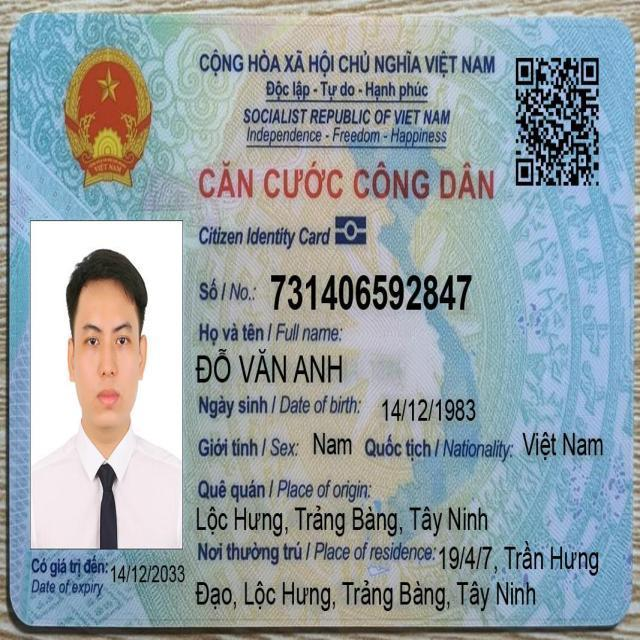current_place: (194, 576, 540, 616), (436, 537, 602, 579)
dob: (378, 393, 479, 428)
expire_date: (108, 558, 189, 589)
gender: (310, 428, 355, 461)
id: (266, 267, 475, 316)
name: (192, 343, 345, 390)
nationality: (519, 427, 606, 465)
origin_place: (192, 500, 490, 539)
